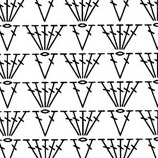enseble_chain: (113, 77, 148, 114), (0, 106, 35, 142), (75, 49, 110, 84), (0, 50, 35, 85), (39, 78, 73, 114), (75, 106, 109, 141), (19, 19, 50, 55), (58, 105, 88, 142), (109, 50, 139, 83), (34, 108, 64, 140), (109, 108, 139, 140), (20, 78, 49, 111), (60, 49, 87, 84), (35, 52, 64, 84), (0, 0, 33, 28), (76, 0, 108, 27), (134, 46, 158, 82), (134, 104, 158, 139), (1, 81, 27, 112), (0, 24, 26, 54), (75, 24, 100, 54), (76, 81, 101, 111), (101, 78, 124, 110), (44, 135, 72, 158), (119, 135, 146, 158), (62, 0, 87, 24), (95, 136, 119, 158), (40, 23, 57, 51), (115, 23, 131, 50), (79, 138, 99, 158), (4, 140, 23, 158), (0, 1, 12, 23), (35, 139, 48, 158), (115, 138, 126, 158)
fan: (67, 23, 89, 54), (1, 109, 19, 139), (2, 53, 18, 81), (71, 52, 87, 80)
